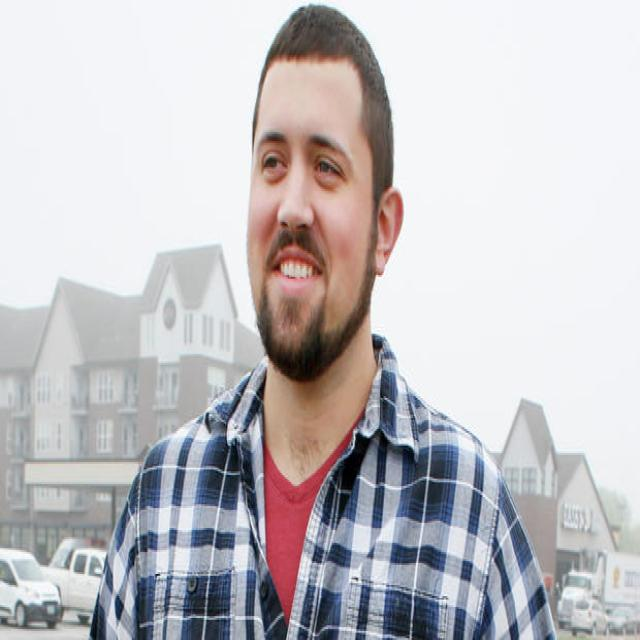human: (86, 3, 570, 640)
